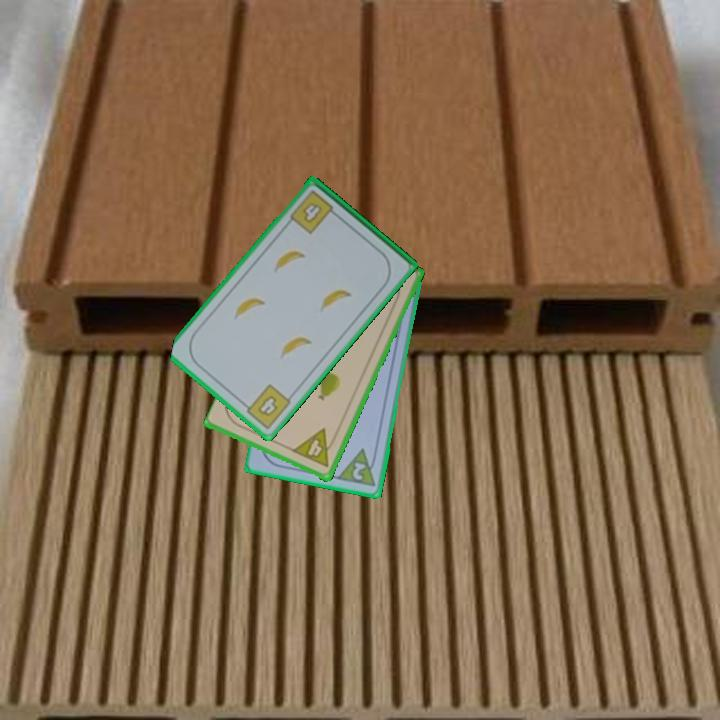2p: (334, 446, 380, 490)
4b: (238, 380, 294, 432), (286, 187, 341, 237)
4p: (290, 426, 340, 470)
